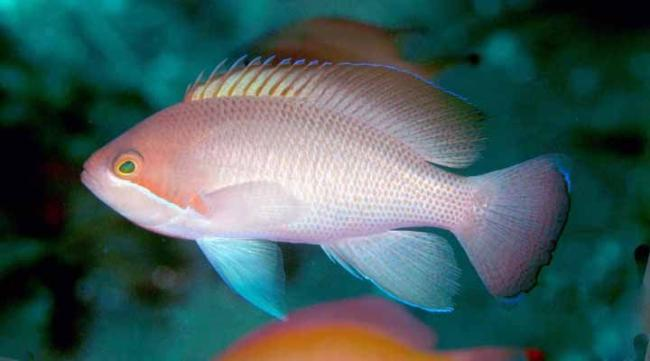fish: (80, 54, 570, 324)
